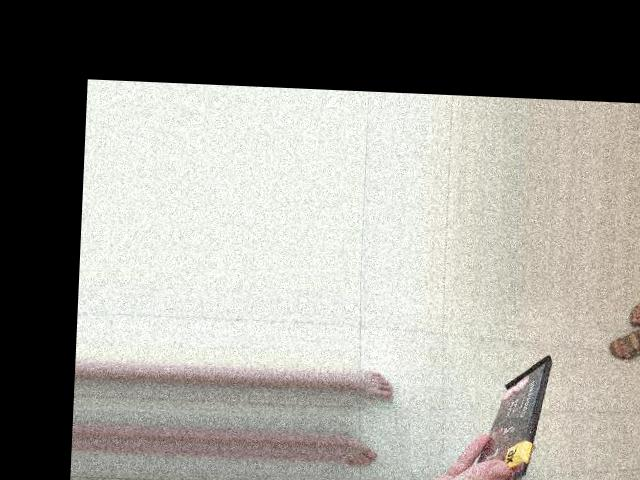chocolate: (475, 329, 635, 421)
